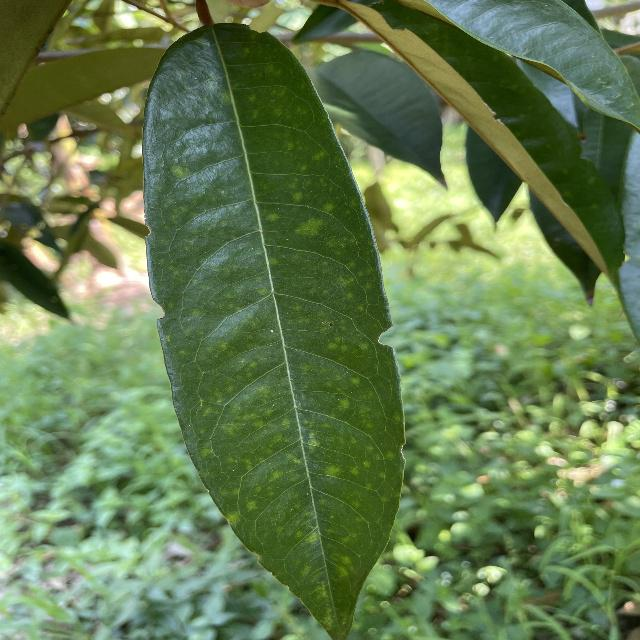Leaf Spot: (135, 13, 416, 639)
